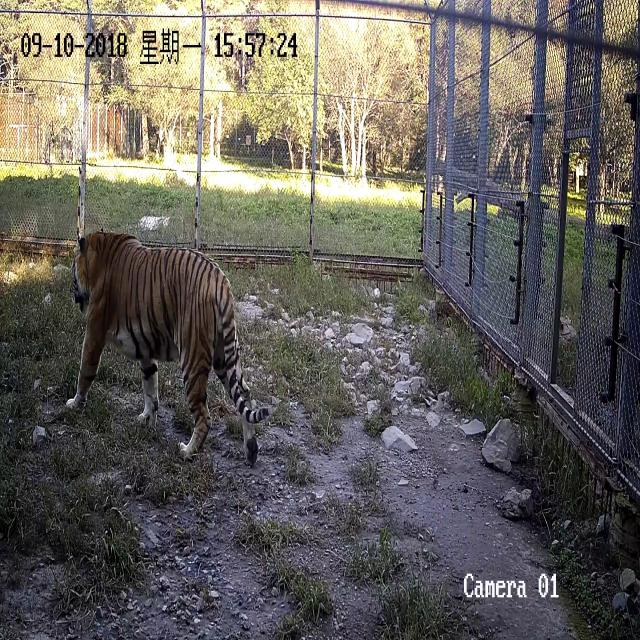Tiger: (60, 212, 276, 472)
